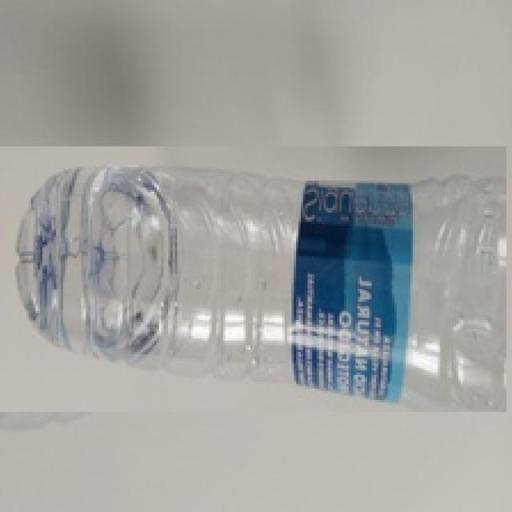plastic: (0, 146, 506, 411)
